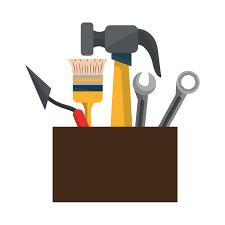hammer: (78, 20, 161, 127)
